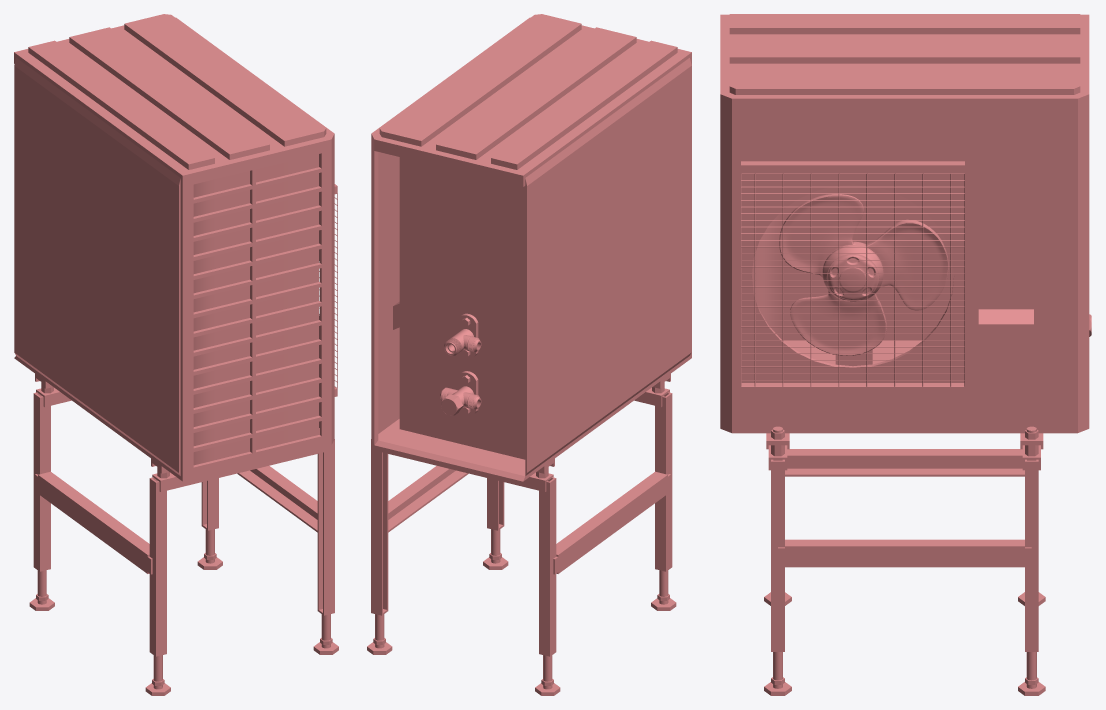
File: OuterUnit.fbx
3 views of the same model, side by side, from view 1: azimuth 30°, elevation 25°; view 2: azimuth 150°, elevation 25°; view 3: azimuth 270°, elevation 25° (orthographic). The views are drawn at different scales.
Parts seen in each view (by area): view 1: AirPump, AirPump-Interior; view 2: AirPump, AirPump-Interior, Socket-1, Socket-2; view 3: AirPump, AirPump-Grill, AirPump-Interior.
Part boxes in pixels (<box>): AirPump: <box>14,14,338,695</box>; AirPump-Interior: <box>193,154,318,465</box>; AirPump: <box>367,14,691,695</box>; AirPump-Interior: <box>399,157,525,459</box>; Socket-1: <box>444,313,481,358</box>; Socket-2: <box>440,371,481,415</box>; AirPump: <box>720,14,1089,695</box>; AirPump-Grill: <box>741,173,964,386</box>; AirPump-Interior: <box>752,184,953,364</box>.
Size of the model in its own units: 51.2 by 142 by 80.49.
